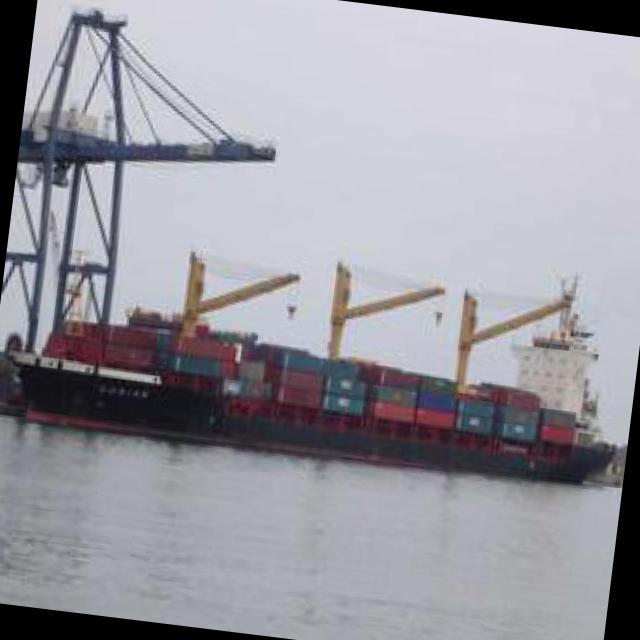boat: (17, 285, 631, 498)
